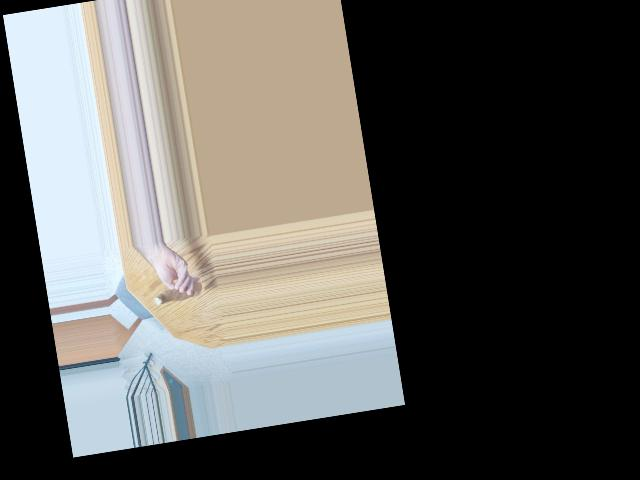sweet_potato: (148, 282, 203, 306)
